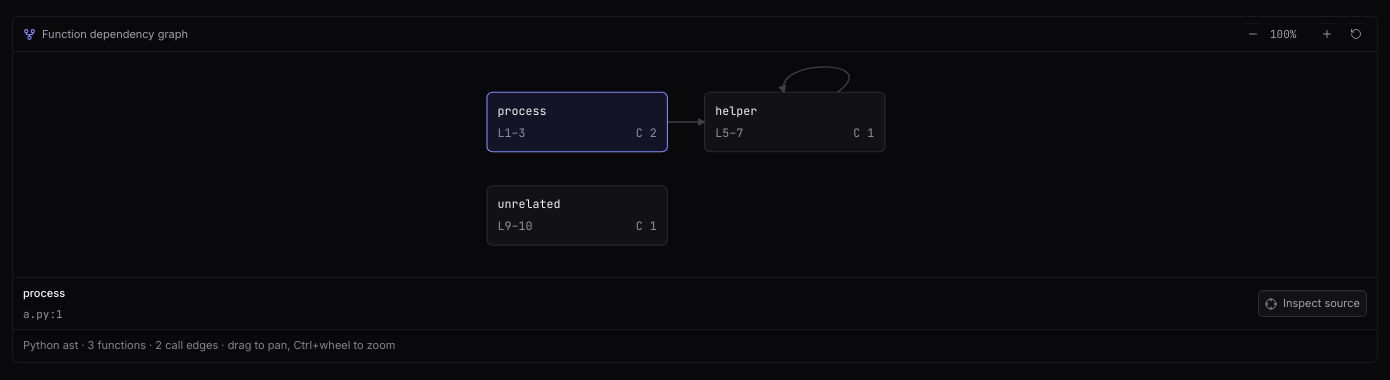
Test case: parser-derived AST graph › zooms with controls and keyboard then resets the actual SVG viewport
Click the button named "Zoom in AST graph": (1326, 34) [1315,23,1338,45]
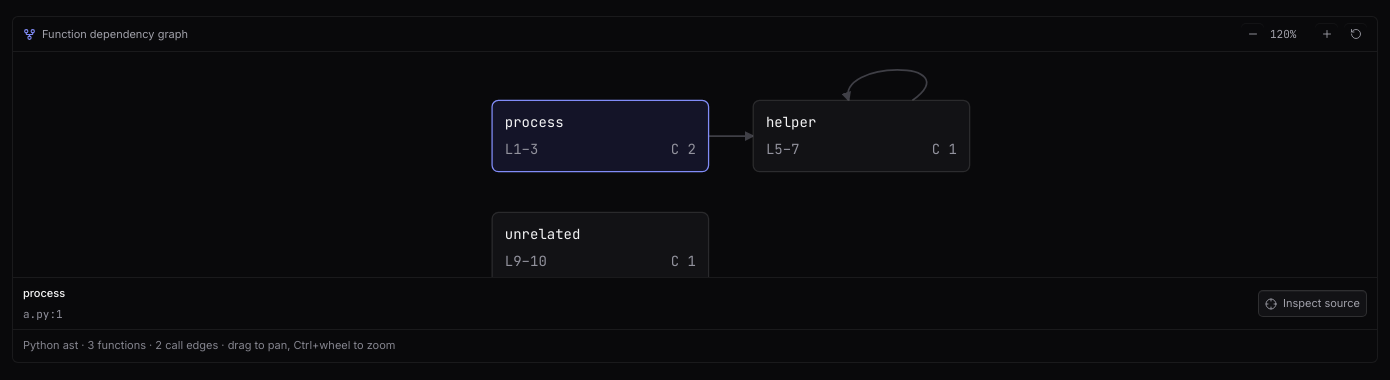
Now the text named "AST graph zoom" reads "120%", box [1270,27,1296,41]
Press + in the icon named "Interactive AST call graph", box [13,52,1377,277]
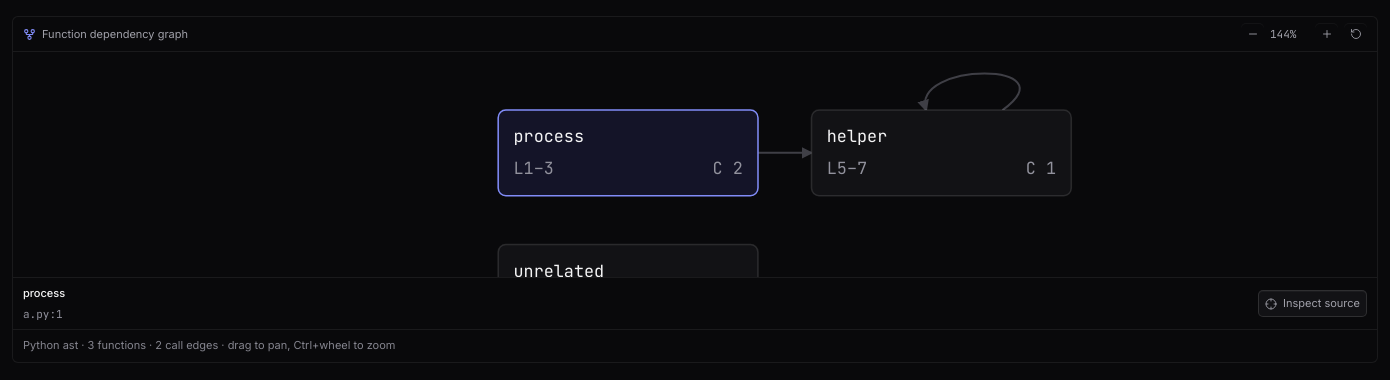
Now the text named "AST graph zoom" reads "144%", box [1270,27,1296,41]
Click the button named "Reset AST graph viewport": (1356, 34) [1344,23,1367,45]
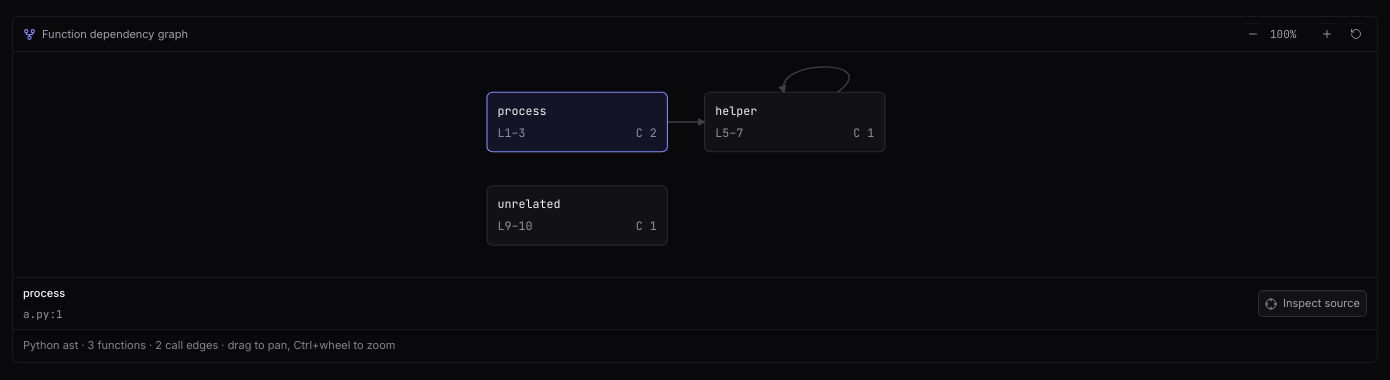
Now the text named "AST graph zoom" reads "100%", box [1270,27,1296,41]
